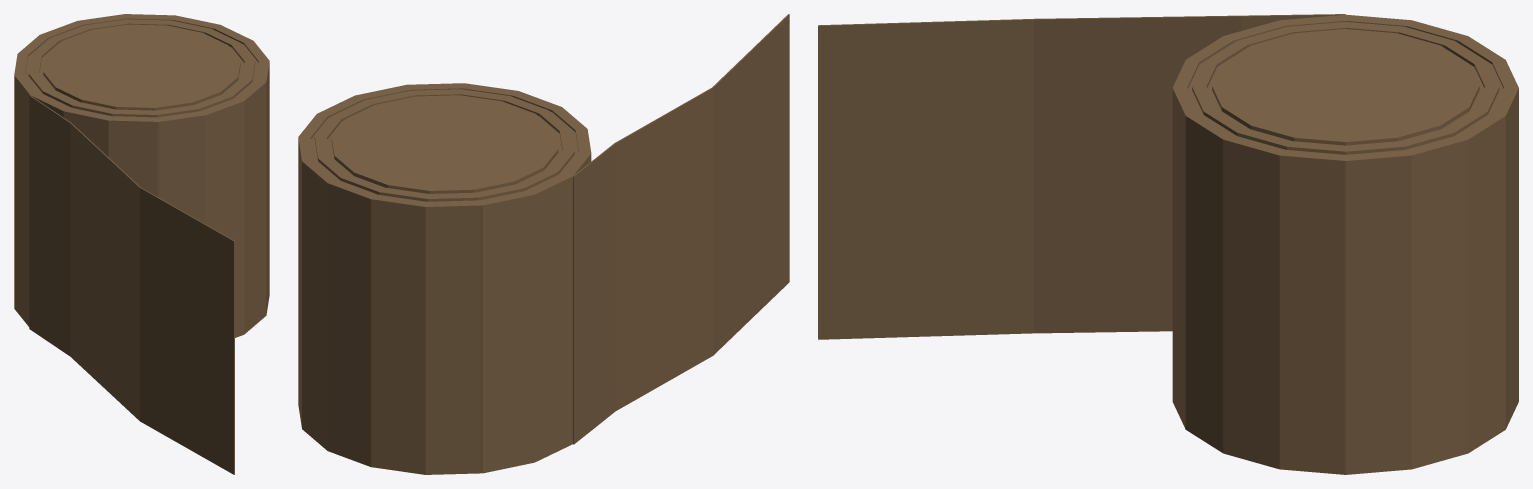
Rendered from Bandage.fbx.
3 renders of one model, left to right at view 1: azimuth 30°, elevation 25°; view 2: azimuth 150°, elevation 25°; view 3: azimuth 270°, elevation 25°, orthographic. The views are drawn at different scales.
Parts seen in each view (by area): view 1: Cylinder; view 2: Cylinder; view 3: Cylinder.
Boxes of the visible parts, x1,y1,x2,y2 form: Cylinder: (14, 14, 269, 474); Cylinder: (298, 14, 789, 474); Cylinder: (818, 14, 1518, 474).
Bounding box in the file's own units: 14.4 × 14.48 × 28.33.
